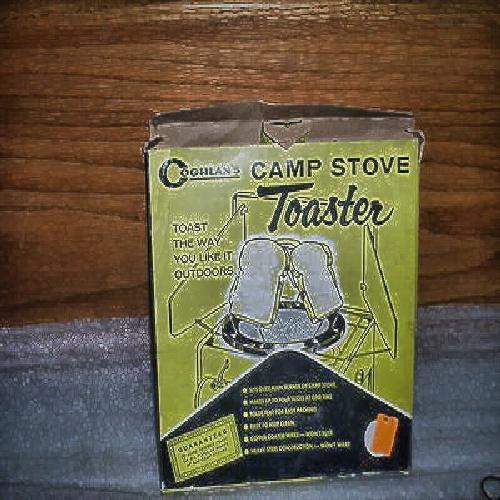toaster: (127, 103, 439, 487)
